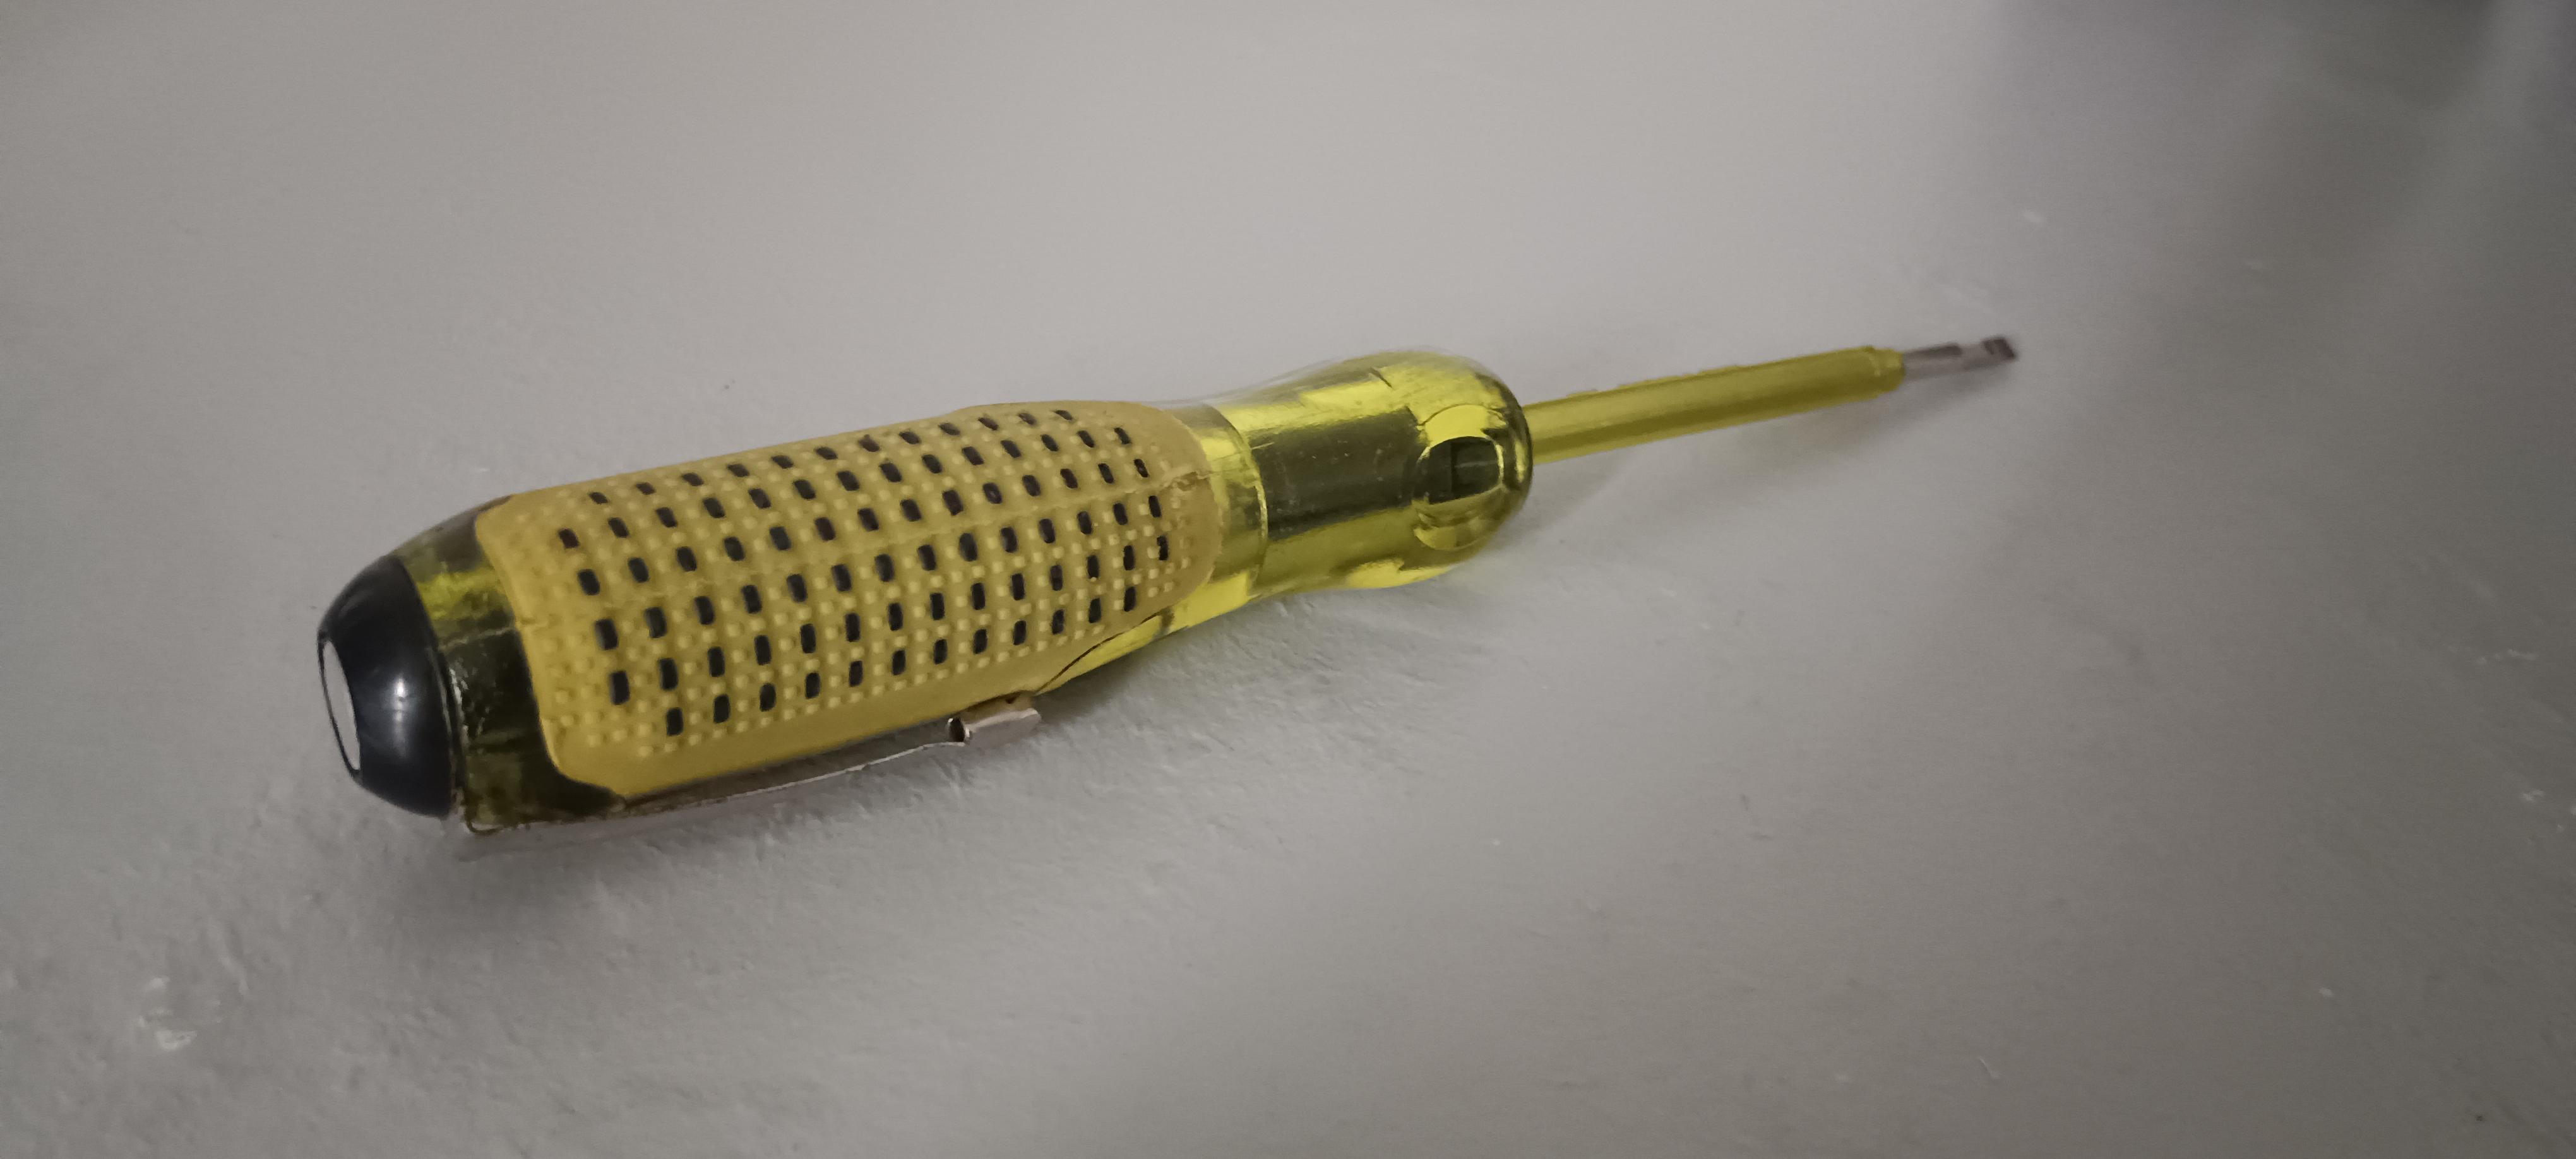Screwdriver: (199, 266, 2090, 845)
